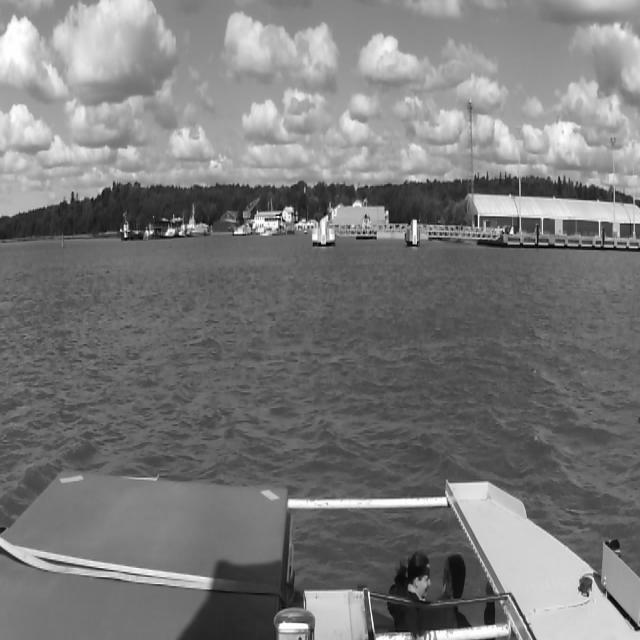buoy: (61, 233, 65, 248)
